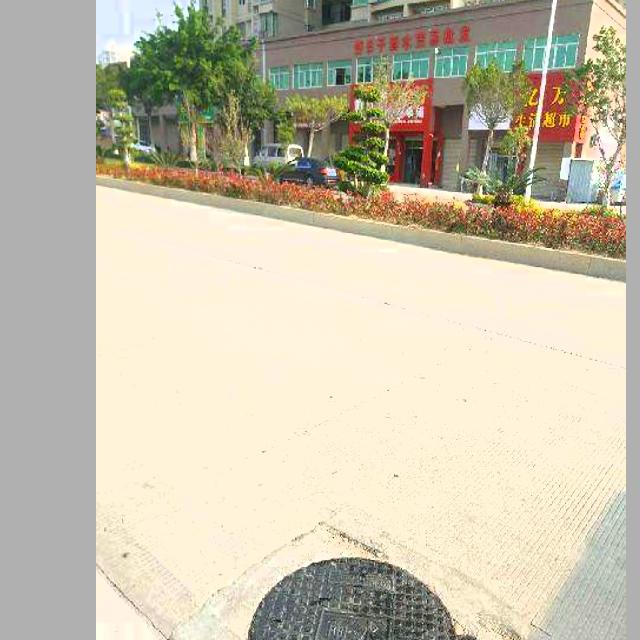good: (165, 519, 530, 640)
